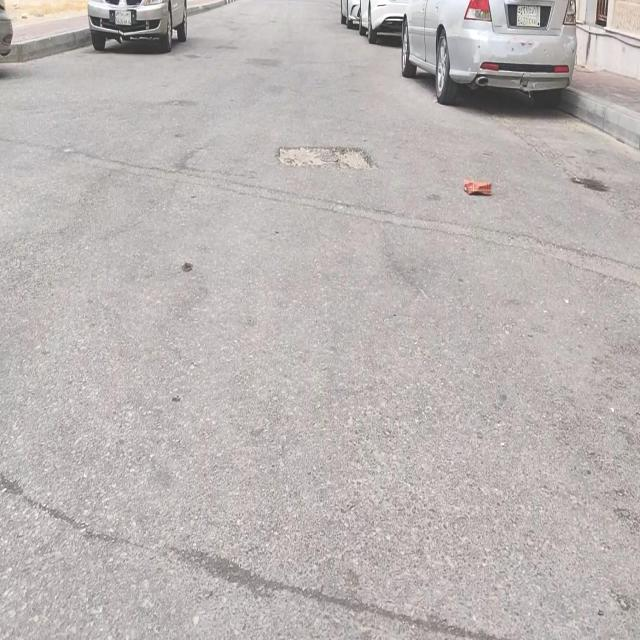Potholes: (278, 145, 377, 168)
